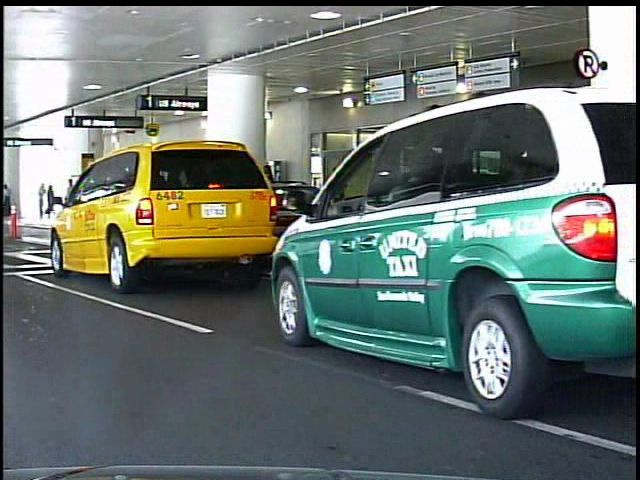person: (64, 176, 84, 231), (48, 182, 61, 221), (40, 180, 51, 221), (4, 183, 13, 215)
